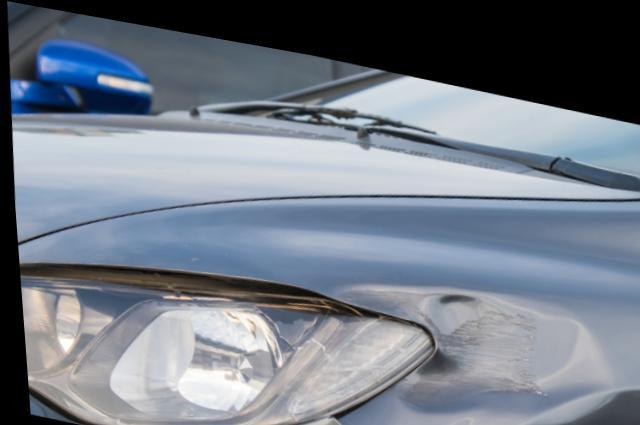dent: (342, 276, 609, 405)
